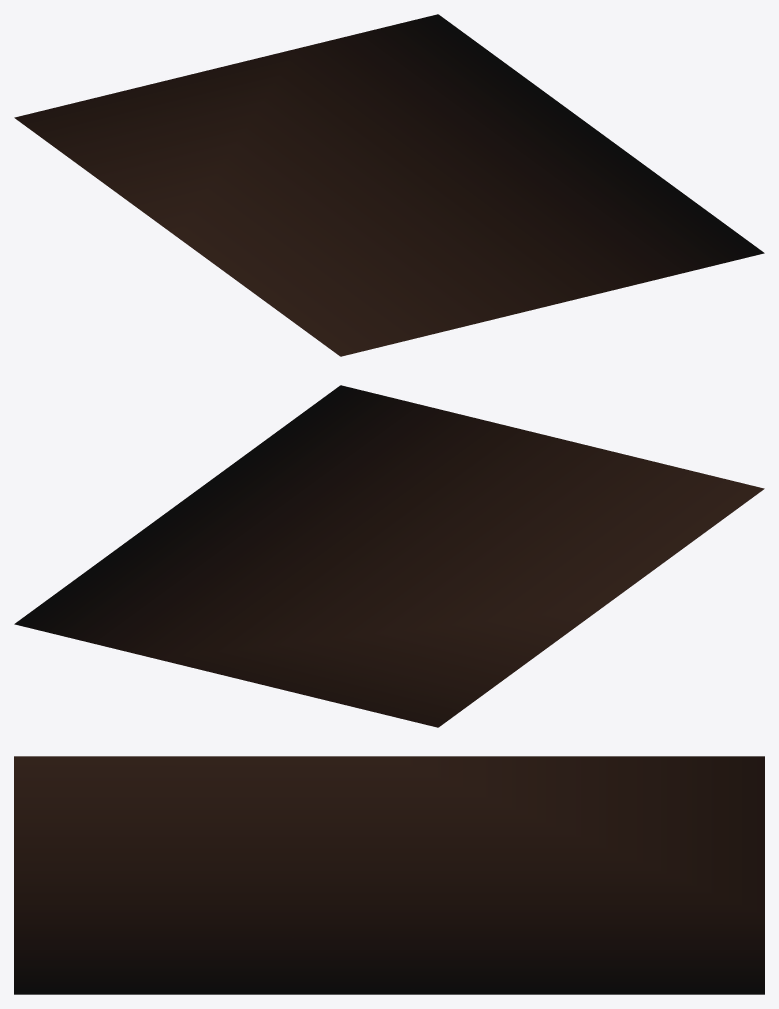
3 renders of one model, top to bottom at view 1: azimuth 30°, elevation 25°; view 2: azimuth 150°, elevation 25°; view 3: azimuth 270°, elevation 25°, orthographic. The views are drawn at different scales.
Bounding box in the file's own units: 0.75 × 0 × 1.
Materials: 1 (1 with a texture image).
